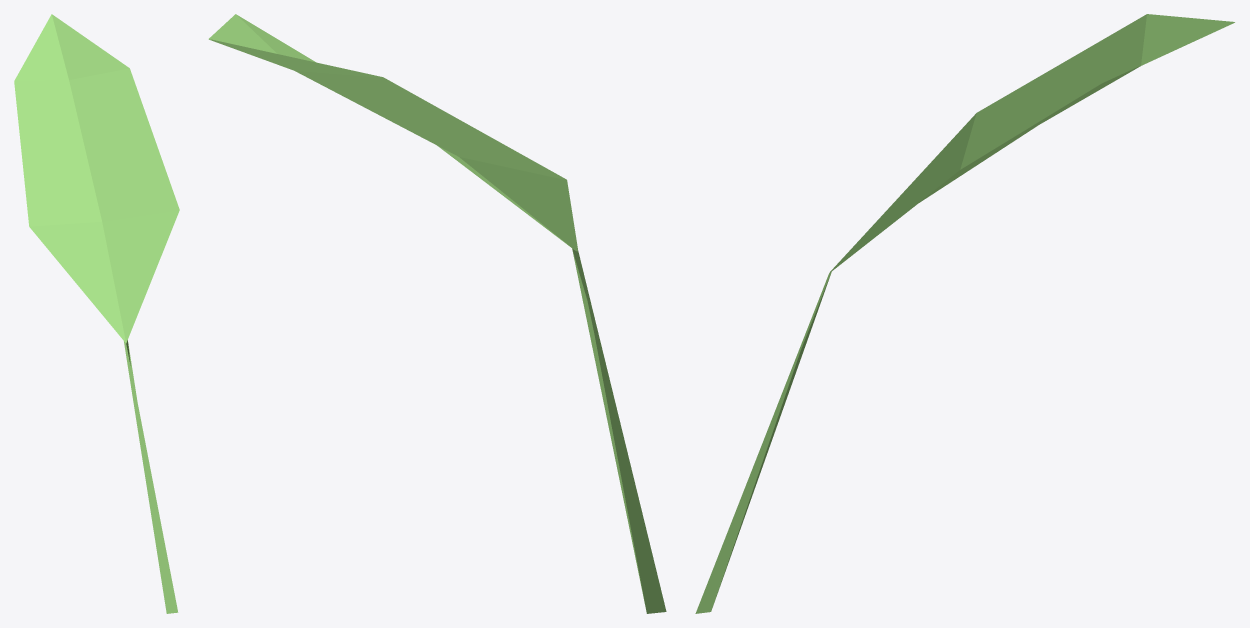
File: Plant_j_TwoS_06.fbx
The picture shows the model from 3 angles, left to right: view 1: azimuth 30°, elevation 25°; view 2: azimuth 150°, elevation 25°; view 3: azimuth 270°, elevation 25°; orthographic projection. The views are drawn at different scales.
Parts seen in each view (by area): view 1: Plant_j_TwoS_06; view 2: Plant_j_TwoS_06; view 3: Plant_j_TwoS_06.
Boxes of the visible parts, <box> form: Plant_j_TwoS_06: <box>14,14,179,613</box>; Plant_j_TwoS_06: <box>208,14,666,613</box>; Plant_j_TwoS_06: <box>695,14,1234,613</box>.
Bounding box in the file's own units: 0.0911 × 0.268 × 0.2064.
